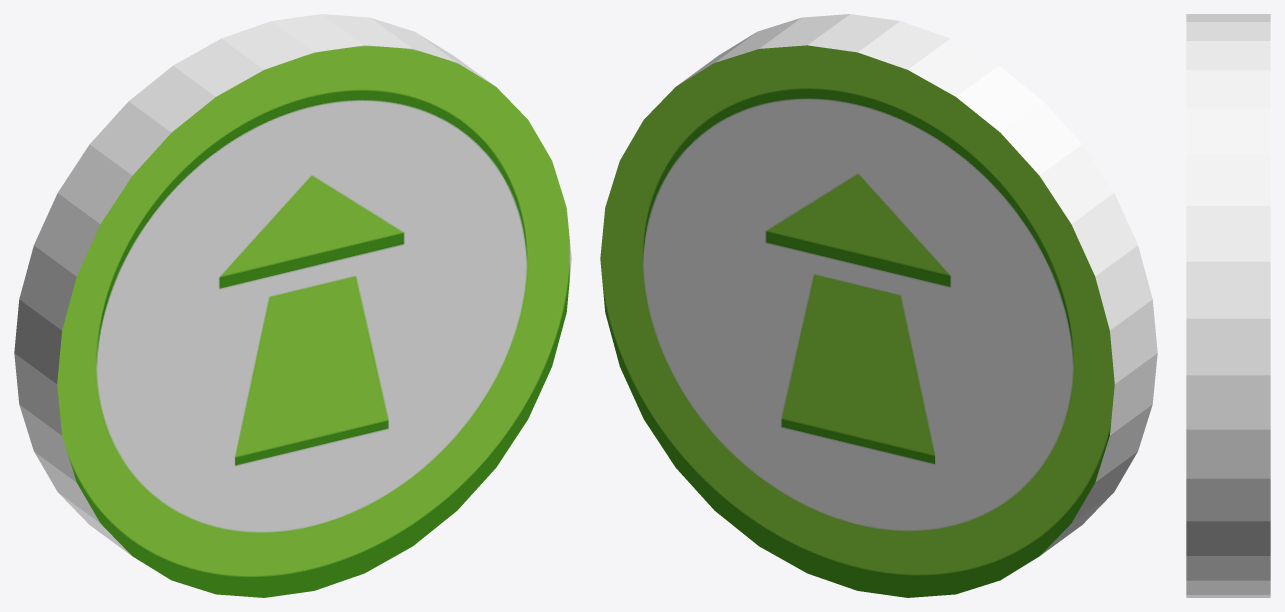
The model's file is SuperJumpCollectable.obj.
3 views of the same model, side by side, from view 1: azimuth 30°, elevation 25°; view 2: azimuth 150°, elevation 25°; view 3: azimuth 270°, elevation 25° (orthographic).
Parts seen in each view (by area): view 1: Цилиндр; view 2: Цилиндр; view 3: Цилиндр.
Boxes of the visible parts, box(x1,y1,x2,y2) form: Цилиндр: box(14, 14, 571, 597); Цилиндр: box(600, 14, 1157, 597); Цилиндр: box(1186, 14, 1270, 597).
Bounding box in the file's own units: 2 × 2 × 0.2886.
